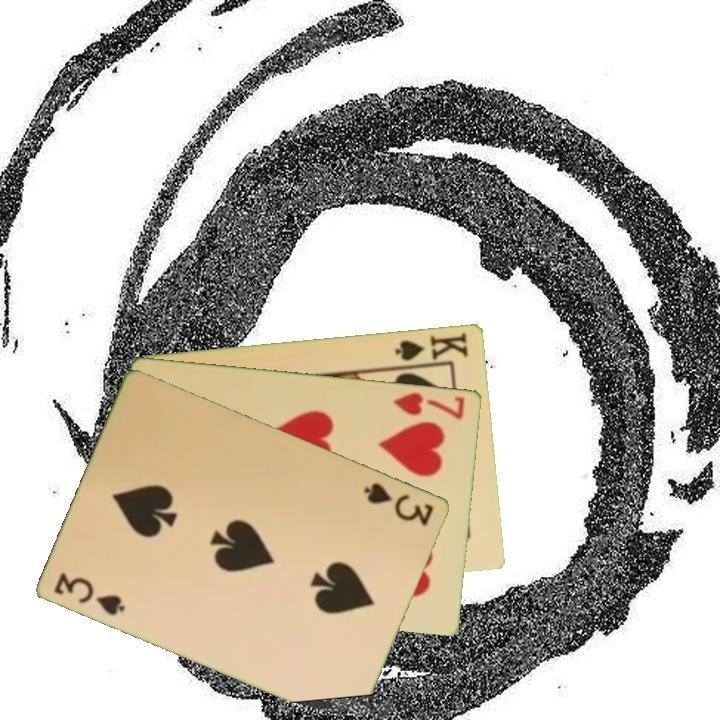3s: (51, 568, 129, 619), (360, 479, 437, 529)
7h: (390, 388, 468, 422)
Ks: (392, 328, 472, 364)
